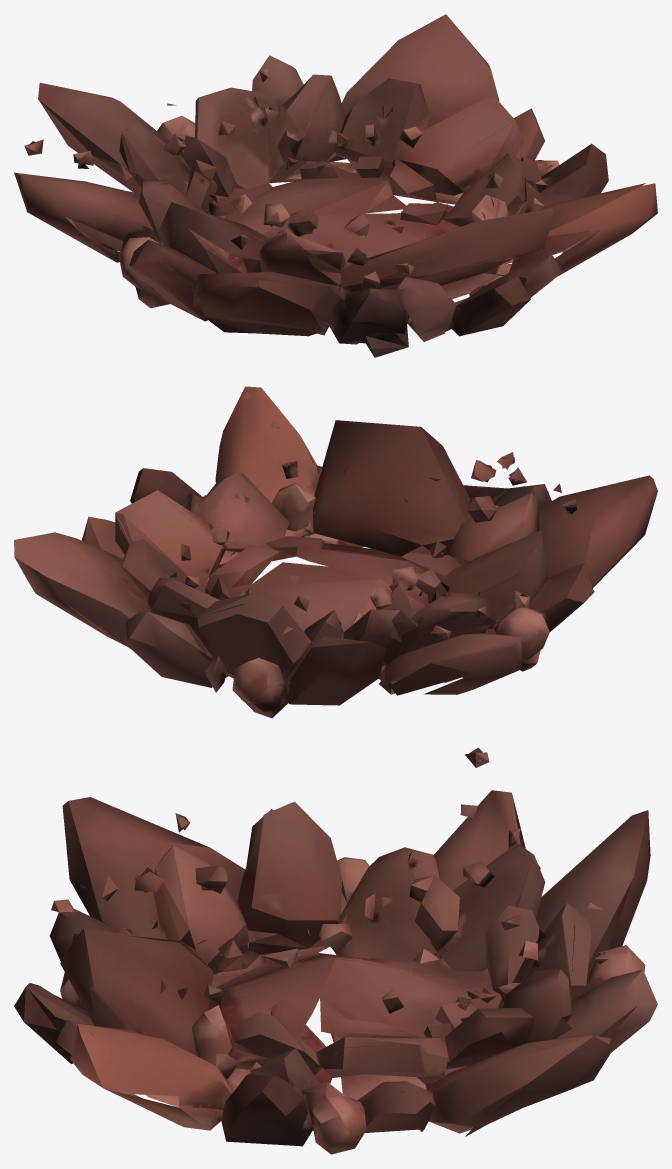
File: 地裂岩石.glb
3 views of the same model, one above another, from view 1: azimuth 30°, elevation 25°; view 2: azimuth 150°, elevation 25°; view 3: azimuth 270°, elevation 25° (orthographic). The views are drawn at different scales.
Parts seen in each view (by area): view 1: geometry_0; view 2: geometry_0; view 3: geometry_0.
Boxes of the visible parts, x1,y1,x2,y2 form: geometry_0: (14, 14, 657, 357); geometry_0: (14, 386, 657, 718); geometry_0: (14, 747, 657, 1154).
Bounding box in the file's own units: 0.9633 × 0.2573 × 0.9543.
Materials: 1 (1 with a texture image).
